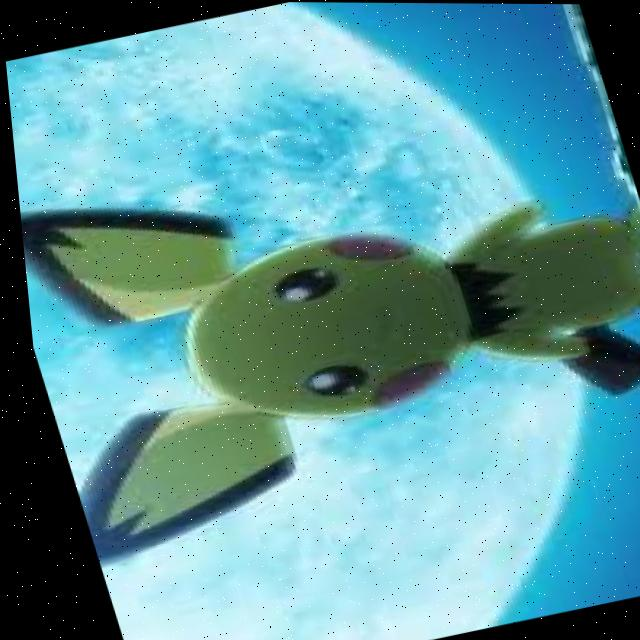pichu: (7, 93, 640, 553)
